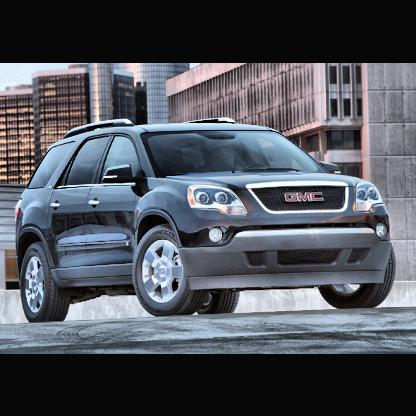GMC Acadia SUV 2012: (15, 115, 397, 323)
